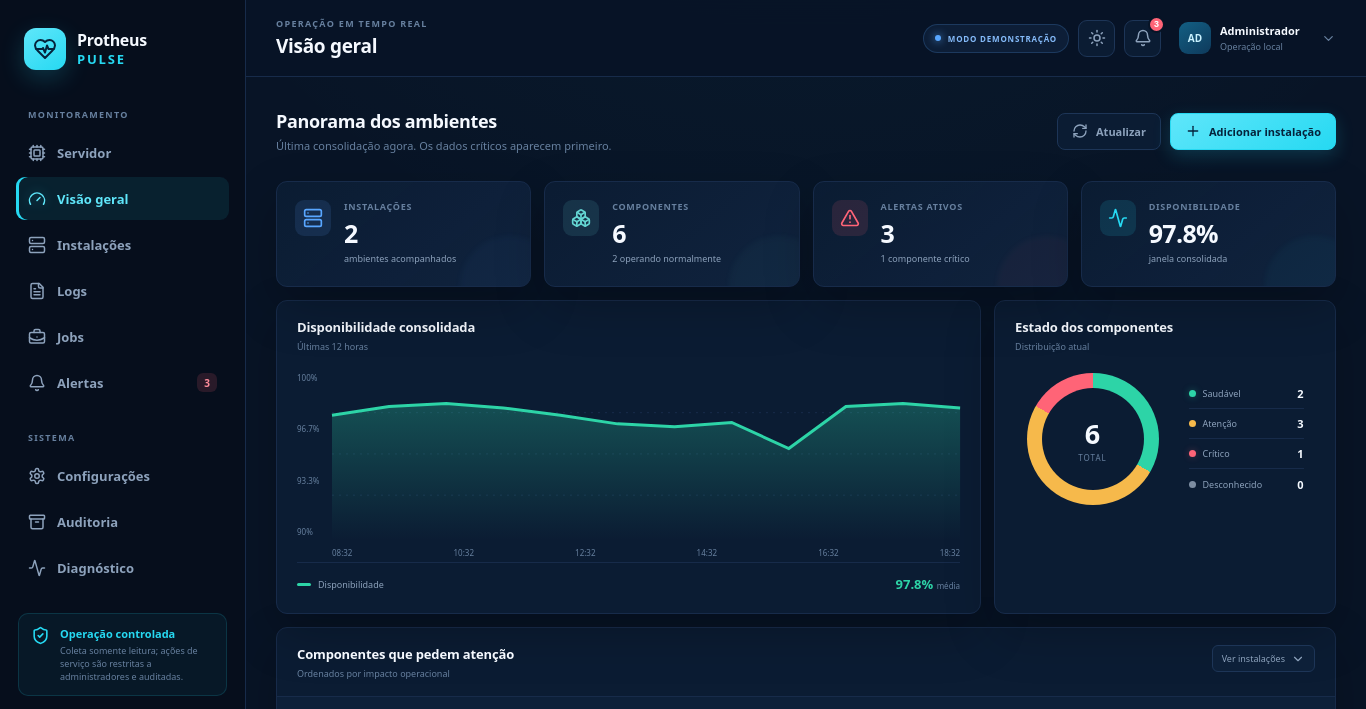
Test: App › esconde a auditoria de quem não é administrador
The image size is (1366, 709).
Expected: the heading "Panorama dos ambientes" is shown, [276,109,497,133]
Click the button "Auditoria" at (122, 522), box [16,500,229,543]
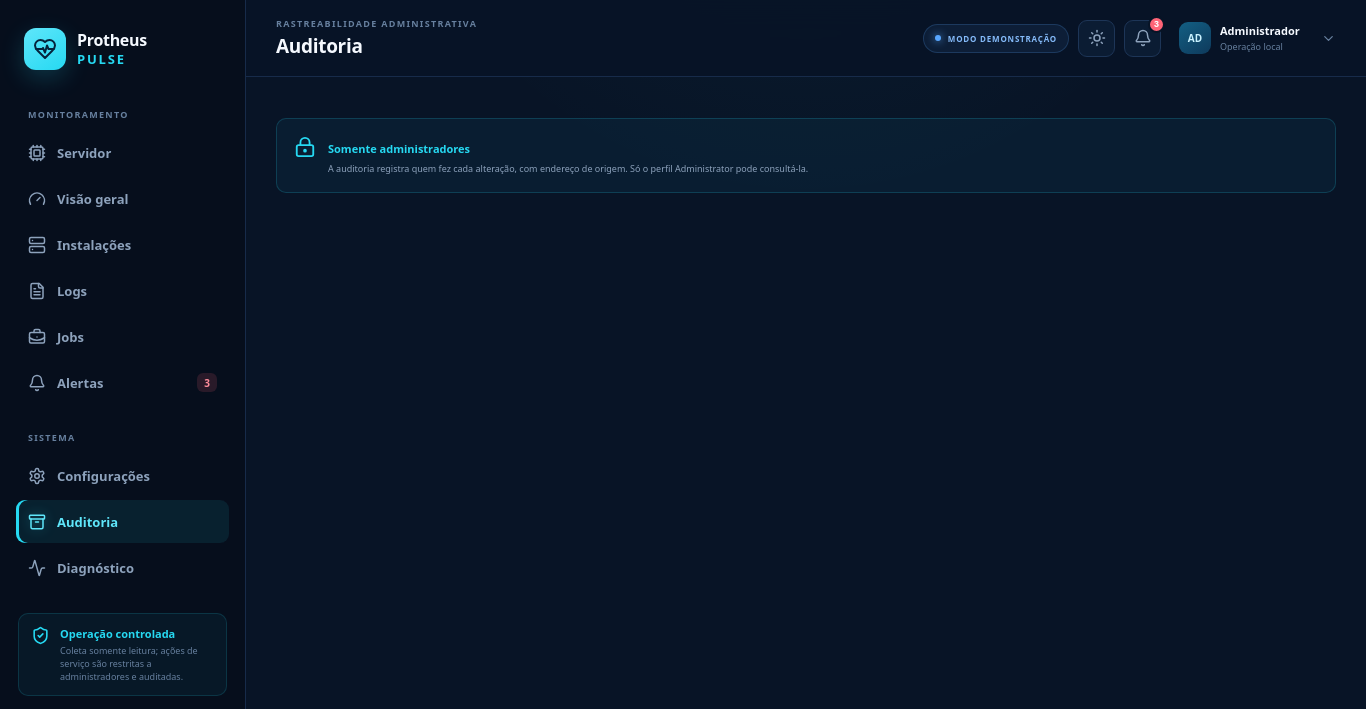
Expected: the text "Somente administradores" is shown, [328,141,470,156]
